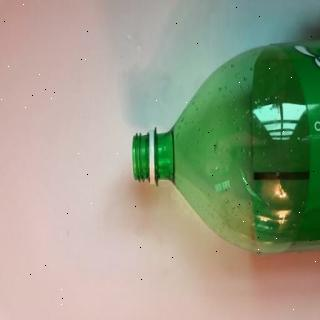Plastic-bottle: (132, 42, 320, 258)
